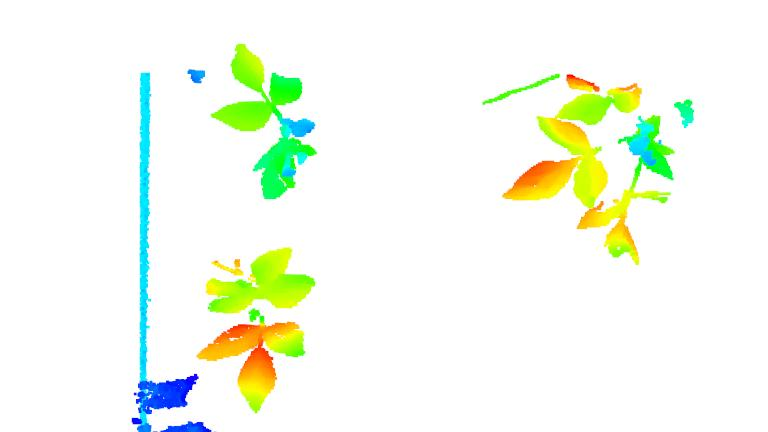mungbean: (506, 74, 677, 267), (196, 247, 315, 414), (213, 44, 318, 201)
